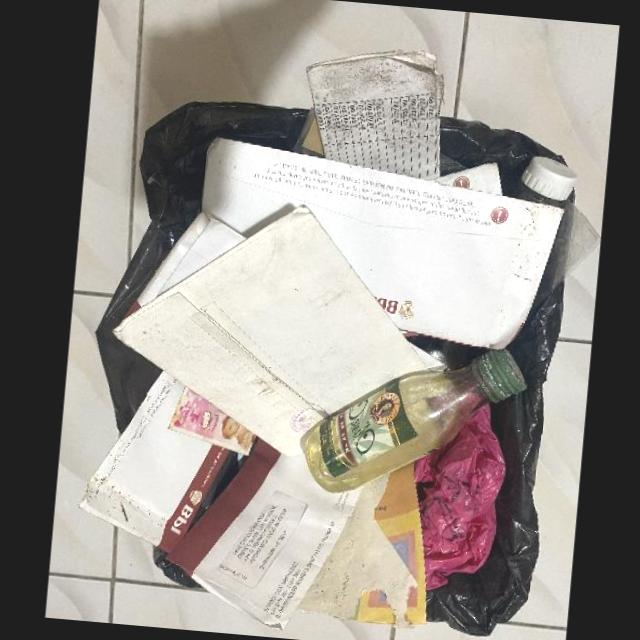chai_thuy_tinh: (304, 347, 526, 493)
giay: (112, 203, 432, 457), (201, 136, 564, 351), (165, 437, 364, 630), (77, 369, 230, 554), (305, 49, 444, 181)
tui_ni_long: (414, 401, 505, 590)
